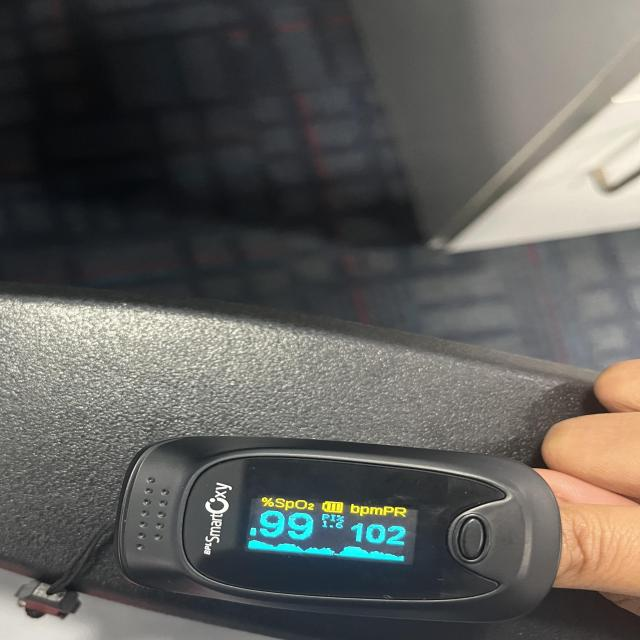spo2: (112, 438, 561, 626)
